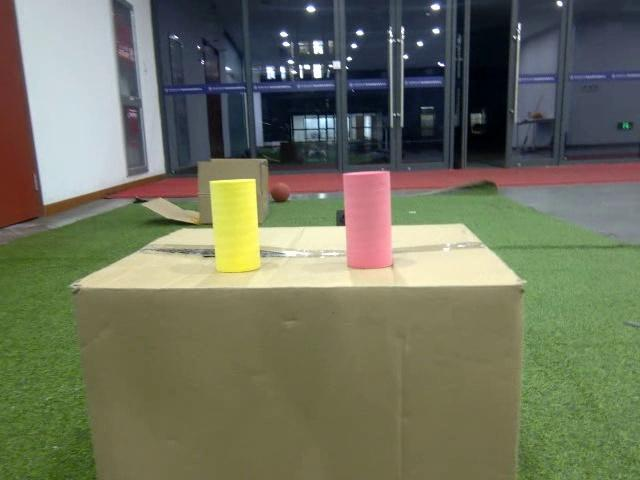red_cylinder: (339, 170, 399, 270)
yellow_cylinder: (206, 176, 264, 275)
